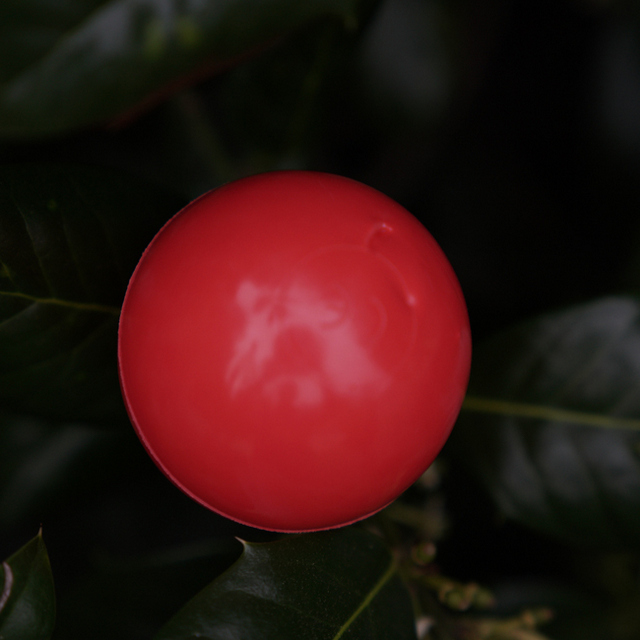Ball: (119, 173, 476, 530)
